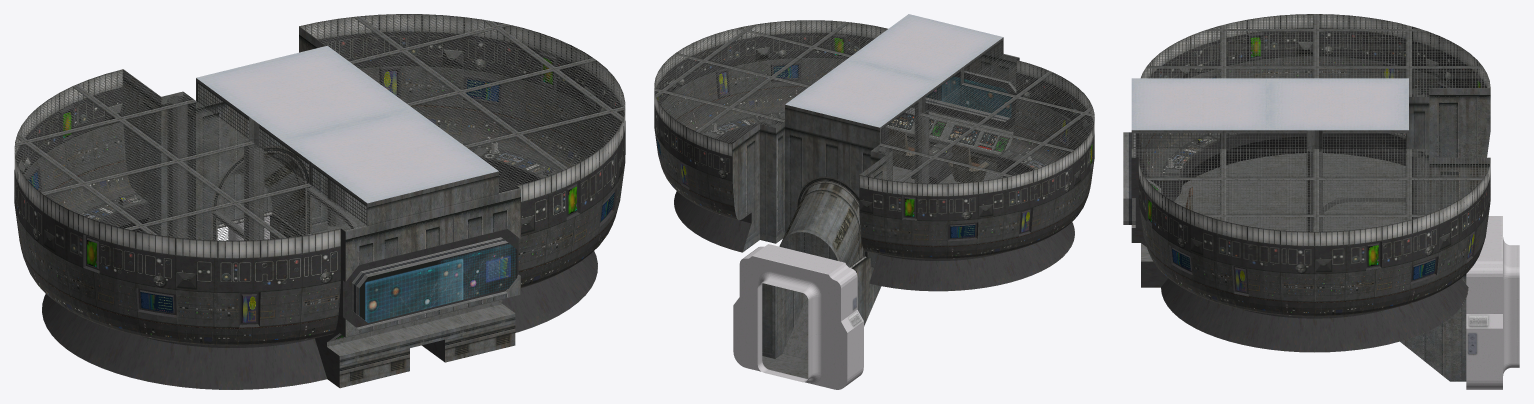
The model's file is thm_spc_corvette_dungeon_r23_upperturret23_mesh_r23.fbx.
The picture shows the model from 3 angles, left to right: view 1: azimuth 30°, elevation 25°; view 2: azimuth 150°, elevation 25°; view 3: azimuth 270°, elevation 25°; orthographic projection. The views are drawn at different scales.
Parts seen in each view (by area): view 1: mesh_node; view 2: mesh_node; view 3: mesh_node.
Part boxes in pixels (bbox=[...]): mesh_node: bbox=[14, 14, 625, 389]; mesh_node: bbox=[654, 14, 1094, 389]; mesh_node: bbox=[1123, 14, 1519, 389].
Size of the model in its own units: 12.59 by 7 by 9.67.
